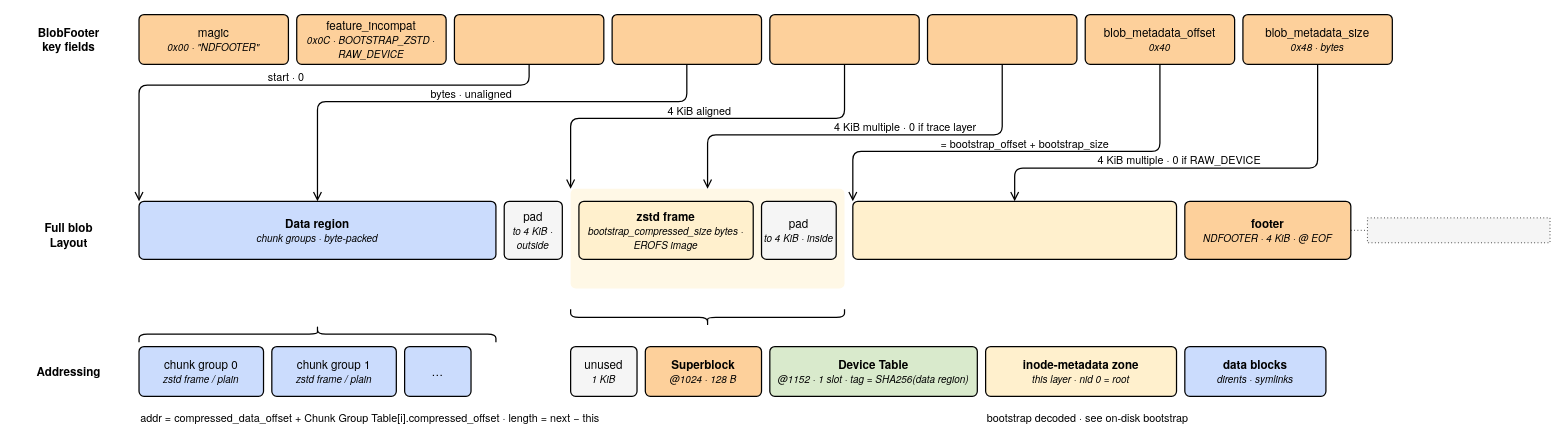
This 1565x440 diagram has some shape labels left out. The centre of each missing label's shape, as x and y in pixels:
"blob meta NDBLMETA · same bytes as .blob.meta · ends 4 KiB aligned" goes at (1014,230).
"bootstrap" goes at (707,317).
"bootstrap_offset 0x28" goes at (844,39).
"bootstrap_size 0x30 · bytes" goes at (1002,39).
"compressed_data_offset 0x18 · 0" goes at (528,39).
"compressed_data_size 0x20 · bytes" goes at (686,39).
"nydus check --blob <blob>" goes at (1458,230).
